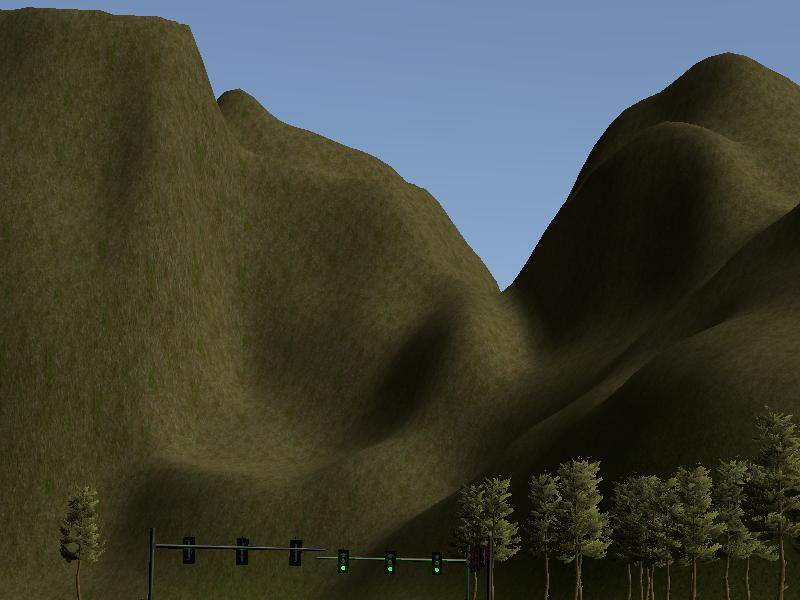Green: (384, 551, 396, 572), (337, 550, 348, 571), (433, 554, 441, 573)
